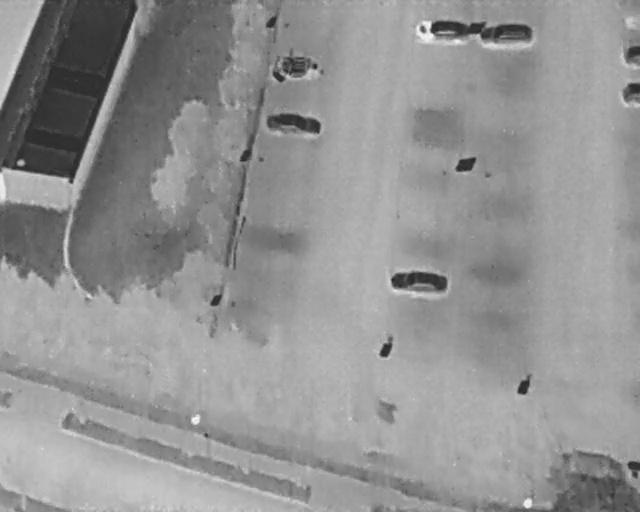Car: (552, 448, 639, 507), (391, 270, 449, 294), (264, 112, 321, 136), (274, 54, 324, 81), (416, 20, 469, 43), (480, 23, 533, 46), (622, 82, 640, 106), (624, 46, 640, 66)
